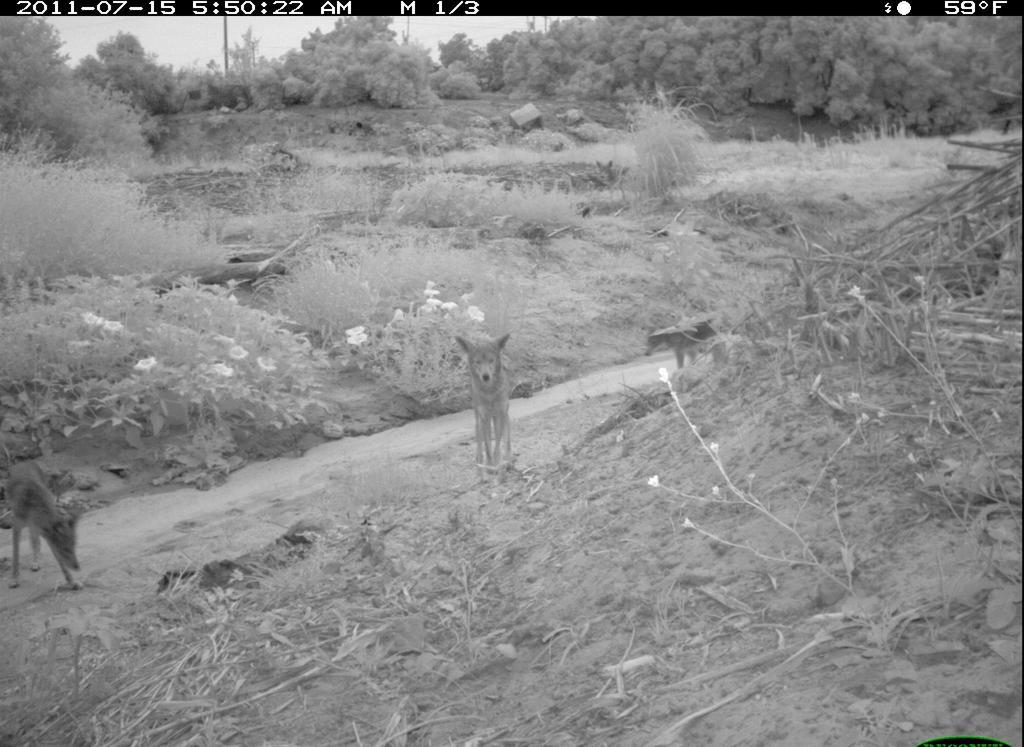coyote: (1, 456, 99, 600), (450, 323, 520, 481), (637, 314, 725, 373)
